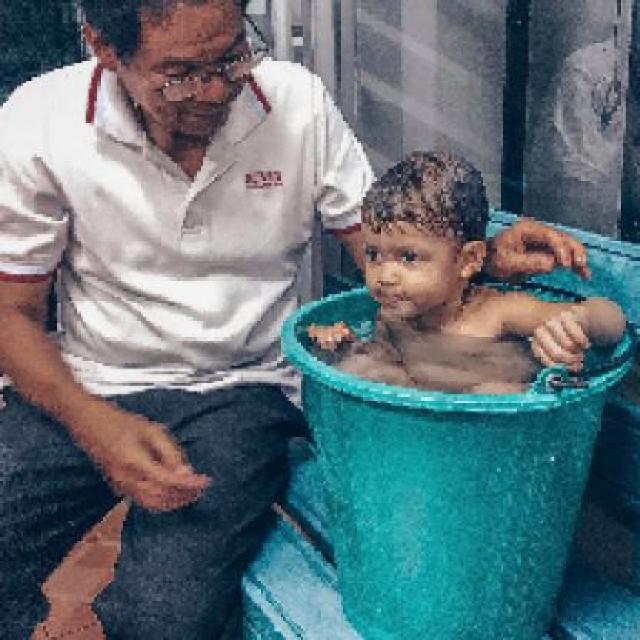child: (306, 150, 626, 396)
